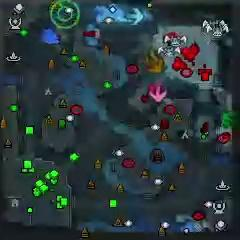p1: (40, 28, 60, 46)
x1: (149, 83, 167, 102)
x3: (127, 8, 144, 26)
x4: (222, 110, 240, 129)
x5: (147, 57, 164, 74)
